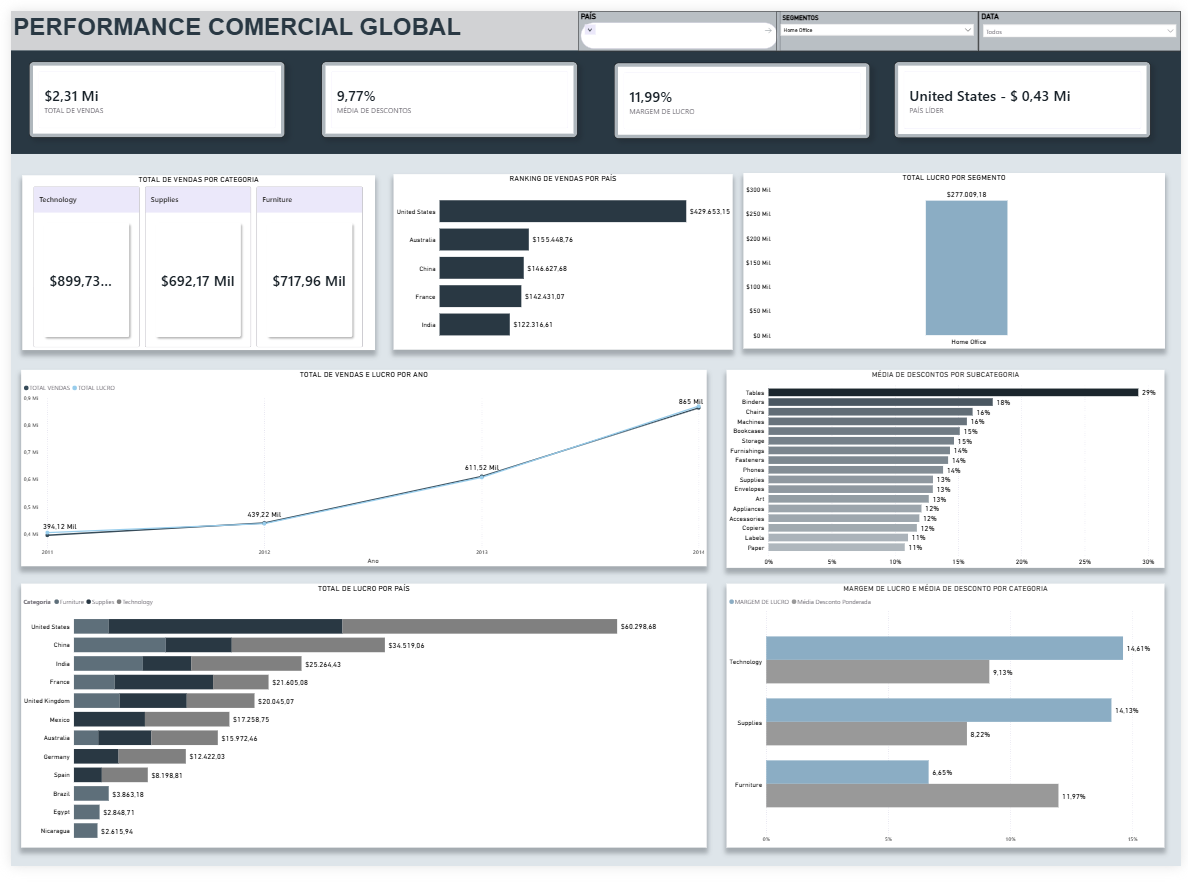

What the dashboard file says about the page in this screenshot:
{"tool":"powerbi","page":{"name":"VENDAS","canvas":[2600,1900],"ordinal":0},"visuals":[{"type":"textbox","box":[0,0,2600,86.7],"z":0},{"type":"textbox","box":[0,86.7,2600,230],"z":1000},{"type":"cardVisual","title":"TOTAL DE VENDAS POR CATEGORIA","fields":{"Data":["MEDIDA.TOTAL VENDAS"],"Rows":["D_CATEGORIAS.Categoria"]},"box":[24,364,784,388],"z":2000},{"type":"slicer","title":"DATA","fields":{"Values":["D-CALENDARIO.Ano","D-CALENDARIO.Mês","D-CALENDARIO.Dia"]},"box":[2150,0,450,90],"z":4000},{"type":"cardVisual","fields":{"Data":["MEDIDA.TOTAL VENDAS"]},"box":[40.5,111.9,569,169],"z":5000},{"type":"textSlicer","title":"PAÍS","fields":{"Values":["Vendas.Pais"]},"box":[1260,0,450,90],"z":6000},{"type":"cardVisual","fields":{"Data":["MEDIDA.Média Desconto Ponderada"]},"box":[690.5,111.9,569,169],"z":7000},{"type":"cardVisual","fields":{"Data":["MEDIDA.KPI"]},"box":[1961.9,111.9,570,170],"z":8000},{"type":"clusteredBarChart","title":"RANKING  DE VENDAS POR PAÍS","fields":{"Y":["MEDIDA.RANKING"],"Category":["Vendas.Pais"]},"box":[850,363.3,753.3,390],"z":9000},{"type":"clusteredColumnChart","title":"TOTAL LUCRO  POR  SEGMENTO","fields":{"Category":["Vendas.Segmento"],"Y":["MEDIDA.TOTAL LUCRO"]},"box":[1626.7,360,936.7,390],"z":10000},{"type":"lineChart","title":"TOTAL DE VENDAS E LUCRO POR ANO","fields":{"Y":["MEDIDA.TOTAL VENDAS"],"Category":["Vendas.Data_Pedido.Variation.Hierarquia de datas.Ano"],"Y2":["MEDIDA.TOTAL LUCRO"]},"box":[23.3,796.7,1523.3,436.7],"z":11000},{"type":"barChart","title":"TOTAL DE LUCRO POR PAÍS","fields":{"Series":["Vendas.Categoria"],"Category":["Vendas.Pais"],"Y":["MEDIDA.RANKING L"]},"box":[23.3,1273.3,1523.3,586.7],"z":12000},{"type":"slicer","fields":{"Values":["Vendas.Segmento","Vendas.Categoria","Vendas.SubCategoria"]},"box":[1700,0,450,90],"z":13000},{"type":"cardVisual","fields":{"Data":["MEDIDA.MARGEM LUCRO"]},"box":[1340.5,114.3,569,169],"z":14000},{"type":"clusteredBarChart","title":"MARGEM DE LUCRO E  MÉDIA DE DESCONTO POR CATEGORIA","fields":{"Category":["Vendas.Categoria"],"Y":["MEDIDA.MARGEM DE LUCRO","MEDIDA.Média Desconto Ponderada"]},"box":[1590,1273.3,973.3,586.7],"z":15000},{"type":"clusteredBarChart","title":"MÉDIA DE DESCONTOS   POR SUBCATEGORIA","fields":{"Y":["MEDIDA.MÉDIA DE DESCONTOS"],"Category":["Vendas.SubCategoria"]},"box":[1590,796.7,973.3,440],"z":16500}]}

Visuals, with their boxes in screenshot pixels (x1, y1, x2, y2), scaled from the page's 2600x1900 canvas onto the 1188x885 screenshot:
textbox: BBox(0, 0, 1187, 40)
textbox: BBox(0, 40, 1187, 148)
"TOTAL DE VENDAS POR CATEGORIA" cardVisual: BBox(11, 170, 369, 350)
"DATA" slicer: BBox(982, 0, 1187, 42)
cardVisual - MEDIDA.TOTAL VENDAS: BBox(19, 52, 278, 131)
"PAÍS" textSlicer: BBox(576, 0, 781, 42)
cardVisual - MEDIDA.Média Desconto Ponderada: BBox(316, 52, 575, 131)
cardVisual - MEDIDA.KPI: BBox(896, 52, 1157, 131)
"RANKING  DE VENDAS POR PAÍS" clusteredBarChart: BBox(388, 169, 733, 351)
"TOTAL LUCRO  POR  SEGMENTO" clusteredColumnChart: BBox(743, 168, 1171, 349)
"TOTAL DE VENDAS E LUCRO POR ANO" lineChart: BBox(11, 371, 707, 575)
"TOTAL DE LUCRO POR PAÍS" barChart: BBox(11, 593, 707, 866)
slicer - Vendas.Segmento x Vendas.Categoria: BBox(777, 0, 982, 42)
cardVisual - MEDIDA.MARGEM LUCRO: BBox(613, 53, 872, 132)
"MARGEM DE LUCRO E  MÉDIA DE DESCONTO POR CATEGORIA" clusteredBarChart: BBox(727, 593, 1171, 866)
"MÉDIA DE DESCONTOS   POR SUBCATEGORIA" clusteredBarChart: BBox(727, 371, 1171, 576)
